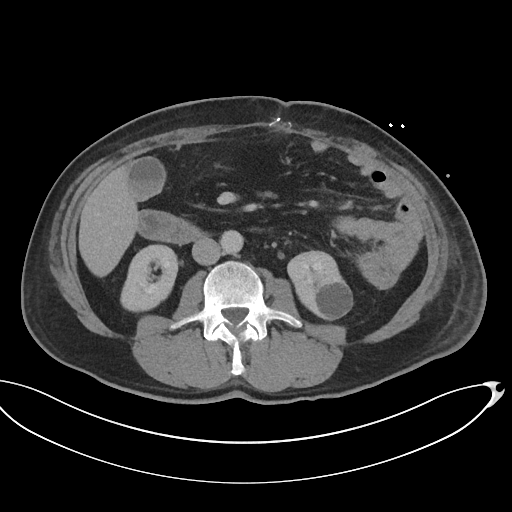Lesion: (310, 280, 356, 323)
